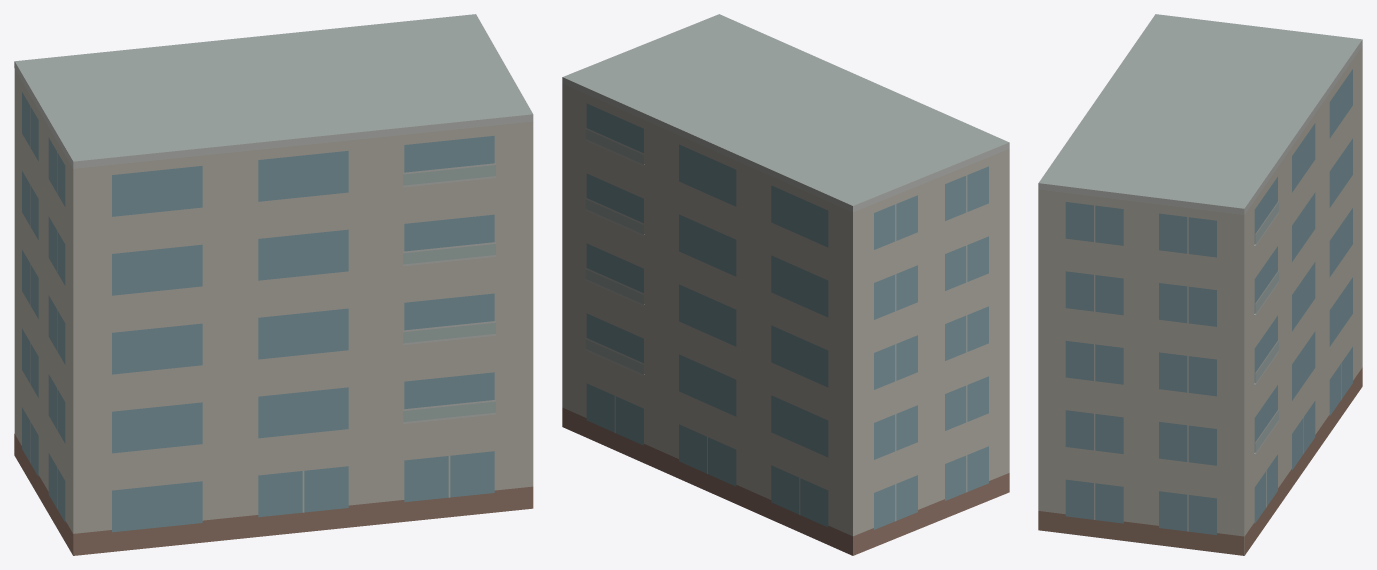
The model's file is survey-upis-32872879.glb.
3 views of the same model, side by side, from view 1: azimuth 30°, elevation 25°; view 2: azimuth 150°, elevation 25°; view 3: azimuth 270°, elevation 25° (orthographic). The views are drawn at different scales.
Parts seen in each view (by area): view 1: survey-upis-32872879.tmp; view 2: survey-upis-32872879.tmp; view 3: survey-upis-32872879.tmp.
Part boxes in pixels (left/top/right/bottom): survey-upis-32872879.tmp: left=14, top=14, right=533, bottom=555; survey-upis-32872879.tmp: left=562, top=14, right=1009, bottom=555; survey-upis-32872879.tmp: left=1038, top=14, right=1362, bottom=555.
Bounding box in the file's own units: 16.25 × 13.5 × 11.43.
